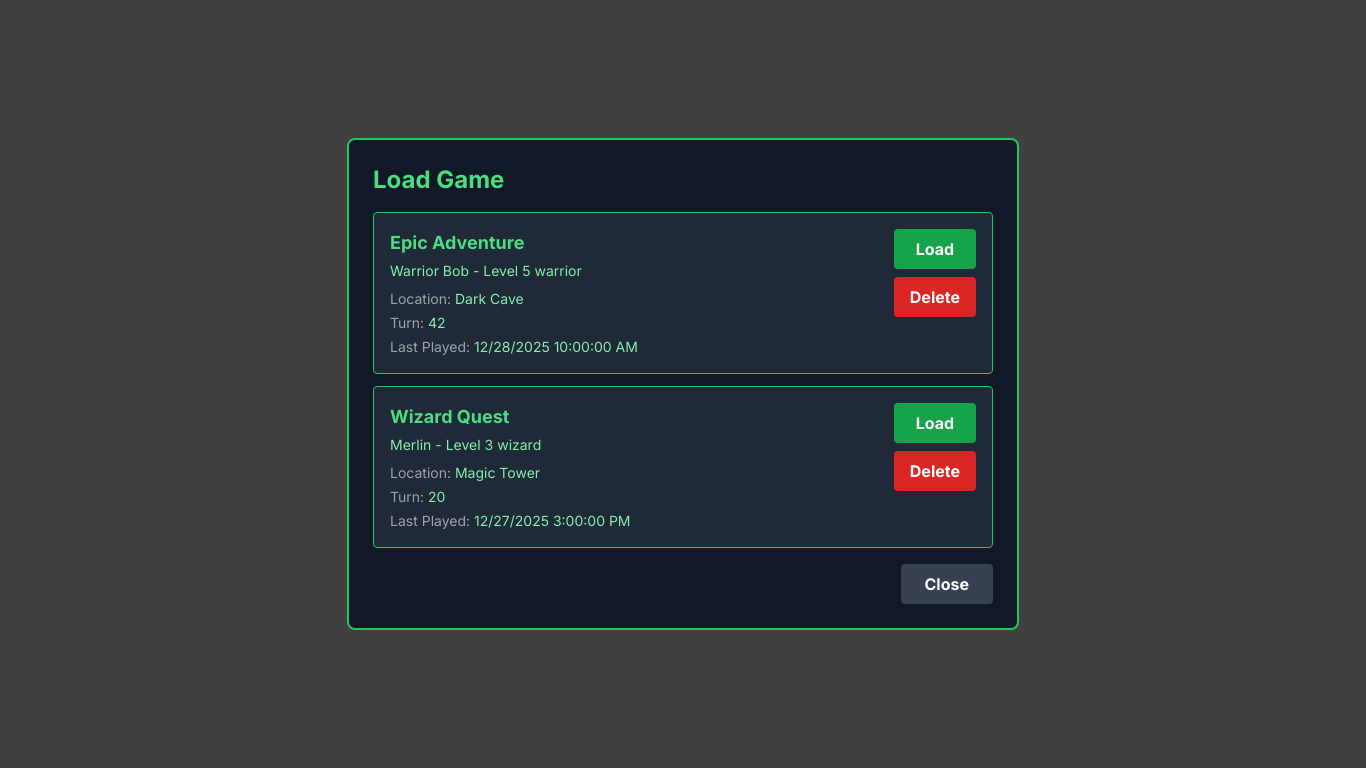
Test: LoadGameModal › should delete save when confirmed
Expected: the heading "Epic Adventure" is shown, x1=390 y1=232 x2=524 y2=253
Click the button "Delete" in the row of "Dark Cave" at (935,297), box x1=894 y1=277 x2=976 y2=317
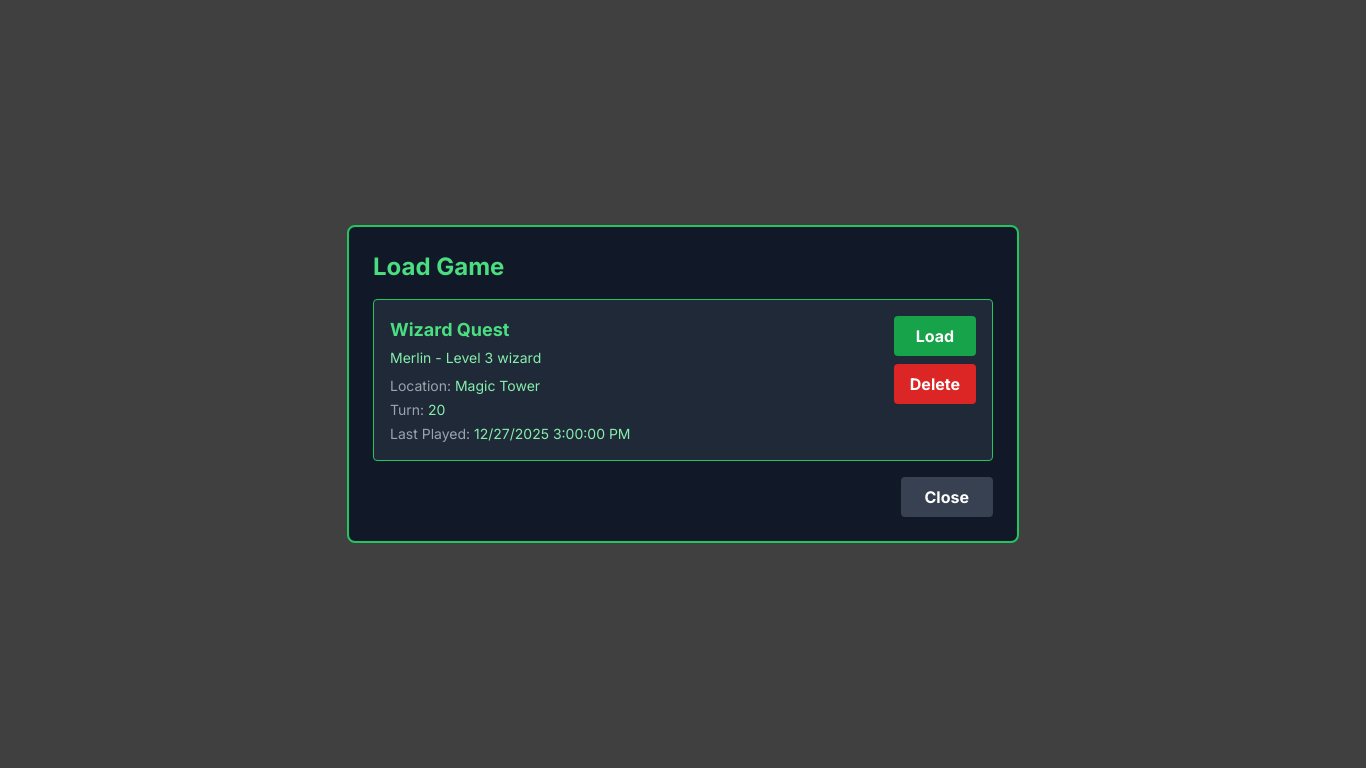
Expected: the heading "Wizard Quest" is shown, x1=390 y1=319 x2=509 y2=340
Result: the heading "Epic Adventure" is gone
